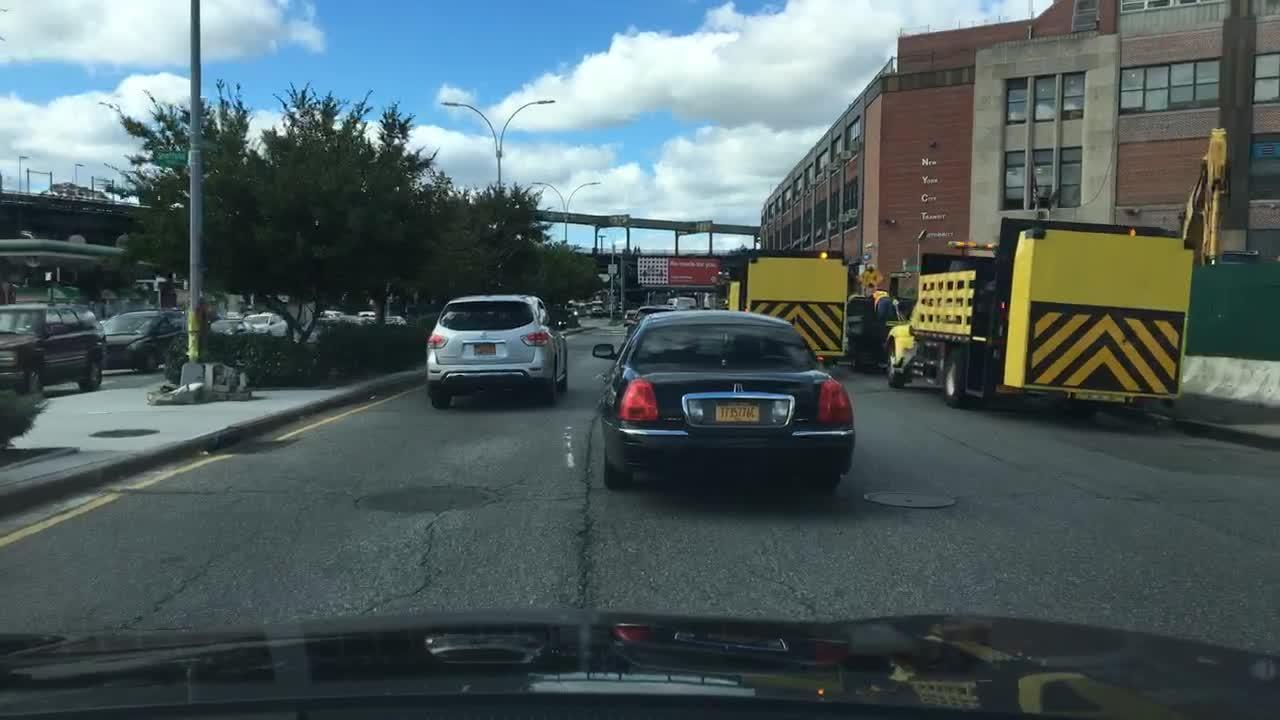Nissan: (474, 328, 492, 342)
lincoln: (728, 378, 749, 401)
